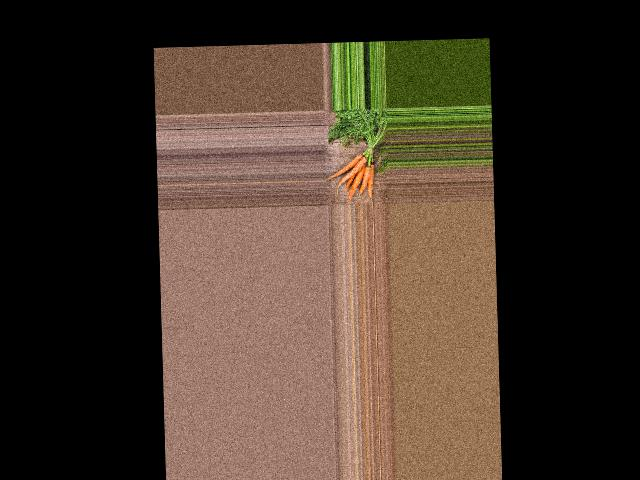carrot: (356, 162, 375, 195)
